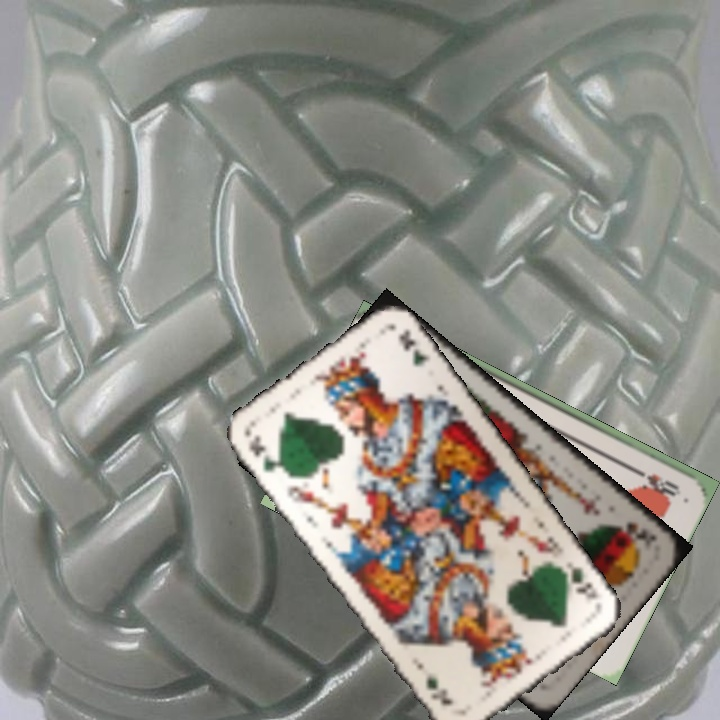GK: (243, 431, 290, 478), (556, 558, 600, 603)
HO: (630, 464, 682, 497)
SK: (612, 517, 660, 551)
